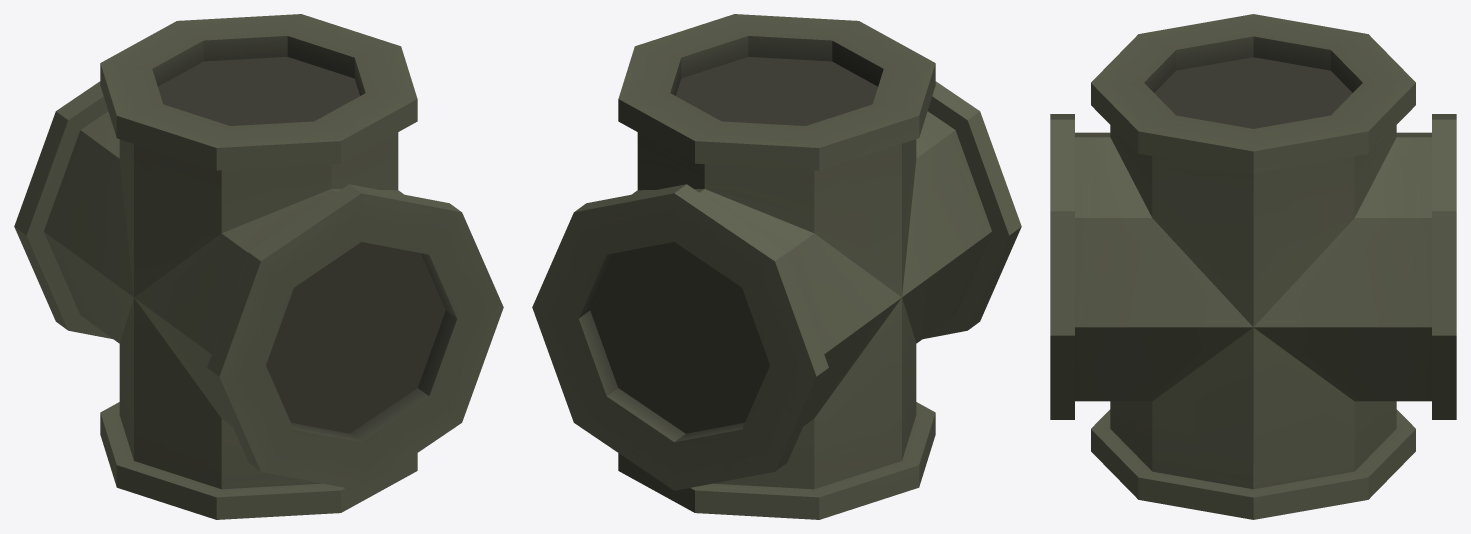
Rendered from SM_EN_Pipe_4.fbx.
The picture shows the model from 3 angles, left to right: view 1: azimuth 30°, elevation 25°; view 2: azimuth 150°, elevation 25°; view 3: azimuth 270°, elevation 25°; orthographic projection.
Parts seen in each view (by area): view 1: SM_EN_Pipe_4; view 2: SM_EN_Pipe_4; view 3: SM_EN_Pipe_4.
Part boxes in pixels (bbox=[...]): SM_EN_Pipe_4: bbox=[14, 14, 503, 519]; SM_EN_Pipe_4: bbox=[532, 14, 1021, 519]; SM_EN_Pipe_4: bbox=[1050, 14, 1456, 519].
Bounding box in the file's own units: 80 × 100 × 100.
